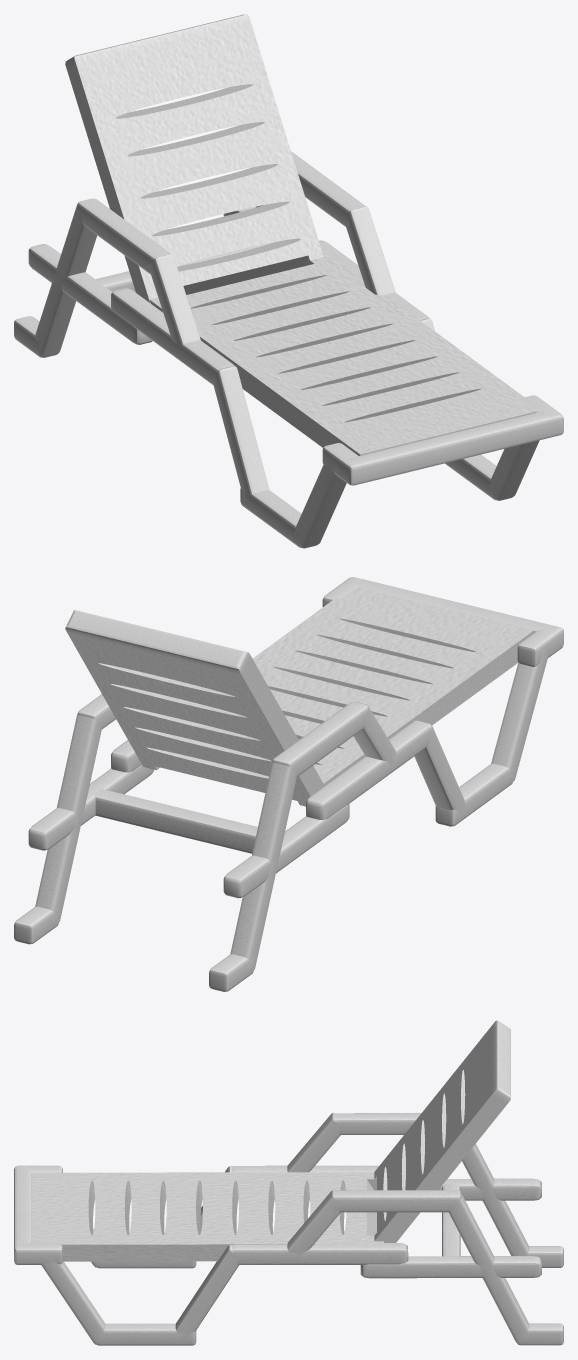
Rendered from sun_lounger_plastic.gltf.
3 renders of one model, top to bottom at view 1: azimuth 30°, elevation 25°; view 2: azimuth 150°, elevation 25°; view 3: azimuth 270°, elevation 25°, orthographic. The views are drawn at different scales.
Parts seen in each view (by area): view 1: pCube44; view 2: pCube44; view 3: pCube44.
Boxes of the visible parts, left/top/right/bottom form: pCube44: left=14, top=14, right=563, bottom=548; pCube44: left=14, top=577, right=563, bottom=991; pCube44: left=14, top=1020, right=563, bottom=1345.
Size of the model in its own units: 82.05 by 112 by 224.
1 material, 1 textured.
